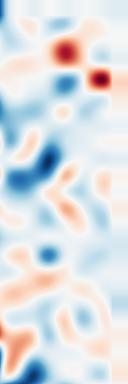filament: (48, 35, 84, 72)
